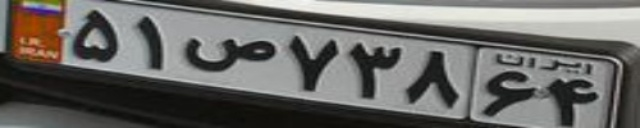1: (135, 15, 163, 69)
3: (347, 43, 403, 99)
4: (545, 77, 601, 127)
5: (69, 8, 119, 62)
6: (478, 71, 537, 115)
7: (288, 34, 340, 93)
8: (405, 50, 459, 108)
saat: (181, 35, 278, 71)
